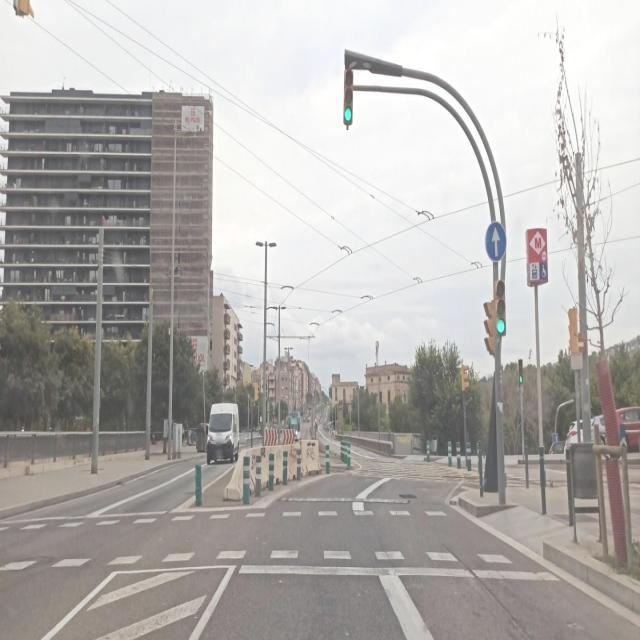car: (206, 402, 240, 466), (598, 406, 640, 454), (615, 407, 640, 454)
